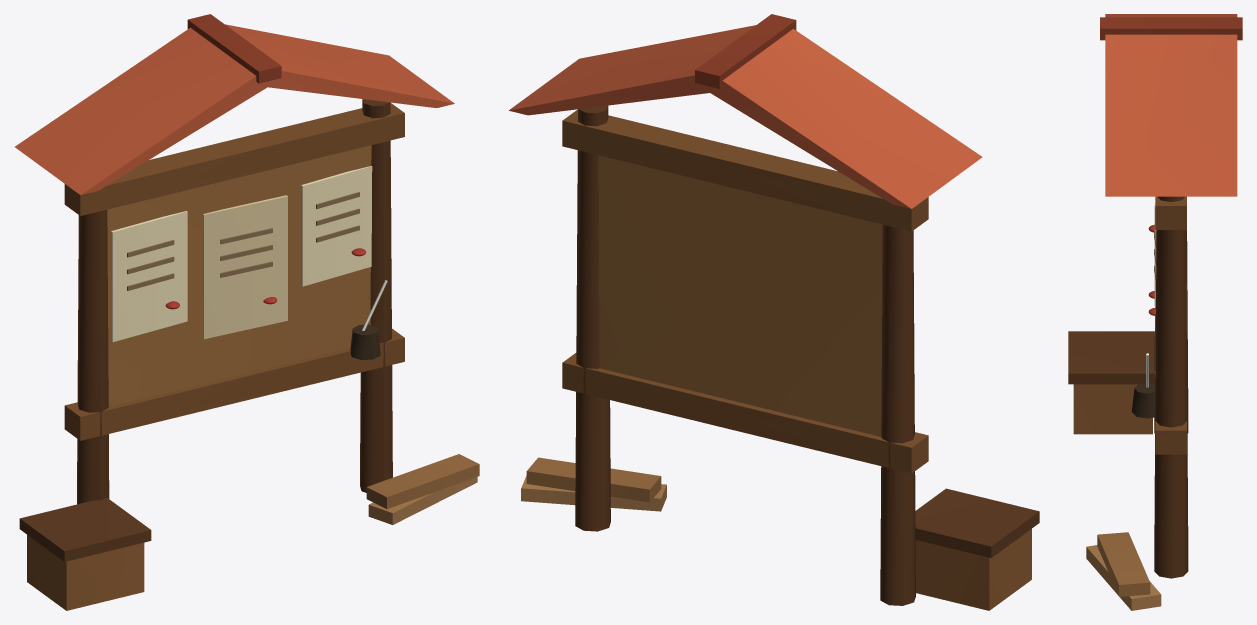
The model's file is order-board.glb.
3 views of the same model, side by side, from view 1: azimuth 30°, elevation 25°; view 2: azimuth 150°, elevation 25°; view 3: azimuth 270°, elevation 25° (orthographic). The views are drawn at different scales.
Parts seen in each view (by area): view 1: board-roof, board-face, frame-top, order-note-1, frame-bottom, post-right, post-left, order-note-0, order-note-2, order-crate, crate-rim, plank-2 (+3 smaller); view 2: board-face, board-roof, frame-top, post-left, frame-bottom, post-right, order-crate, crate-rim, roof-ridge, plank-2, plank-1; view 3: board-roof, post-right, crate-rim, order-crate, roof-ridge, plank-2, plank-1, frame-bottom, frame-top, ink-pot, post-left.
Boxes of the visible parts, left/top/right/bottom form: board-roof: left=15, top=24, right=454, bottom=194; board-face: left=107, top=145, right=371, bottom=406; frame-top: left=64, top=102, right=404, bottom=215; order-note-1: left=203, top=195, right=287, bottom=339; frame-bottom: left=64, top=328, right=404, bottom=440; post-right: left=360, top=99, right=392, bottom=492; post-left: left=77, top=209, right=109, bottom=504; order-note-0: left=111, top=211, right=187, bottom=342; order-note-2: left=301, top=166, right=372, bottom=286; order-crate: left=27, top=535, right=144, bottom=610; crate-rim: left=19, top=497, right=151, bottom=561; plank-2: left=366, top=454, right=479, bottom=508; board-face: left=598, top=155, right=882, bottom=436; board-roof: left=509, top=25, right=982, bottom=208; frame-top: left=562, top=109, right=928, bottom=231; post-left: left=880, top=224, right=915, bottom=605; frame-bottom: left=562, top=353, right=928, bottom=473; post-right: left=575, top=105, right=610, bottom=531; order-crate: left=915, top=529, right=1031, bottom=610; crate-rim: left=915, top=488, right=1039, bottom=557; roof-ridge: left=695, top=14, right=796, bottom=88; plank-2: left=526, top=457, right=661, bottom=502; plank-1: left=521, top=475, right=666, bottom=511; board-roof: left=1105, top=14, right=1237, bottom=196; post-right: left=1154, top=196, right=1188, bottom=578; crate-rim: left=1068, top=331, right=1155, bottom=384; order-crate: left=1073, top=384, right=1152, bottom=434; roof-ridge: left=1100, top=17, right=1242, bottom=40; plank-2: left=1097, top=532, right=1150, bottom=596; plank-1: left=1086, top=545, right=1161, bottom=610; frame-bottom: left=1155, top=283, right=1186, bottom=454; frame-top: left=1155, top=196, right=1186, bottom=229; ink-pot: left=1131, top=383, right=1155, bottom=418; post-left: left=1154, top=230, right=1188, bottom=433.
Size of the model in its own units: 1.95 by 2.01 by 0.66.
